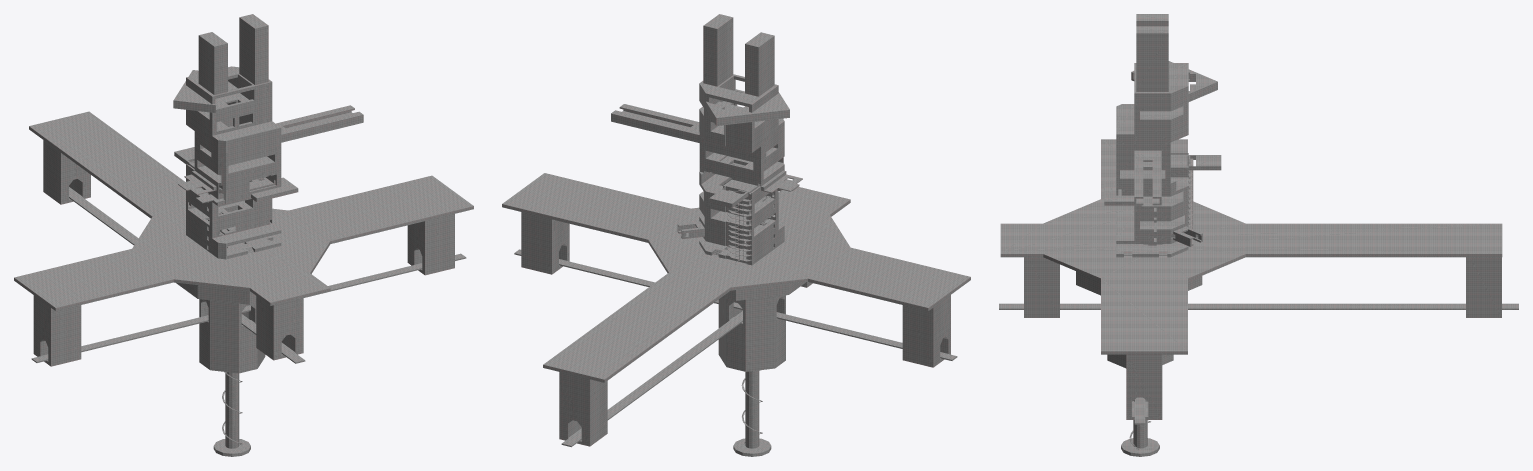
The model's file is floating_building.glb.
The picture shows the model from 3 angles, left to right: view 1: azimuth 30°, elevation 25°; view 2: azimuth 150°, elevation 25°; view 3: azimuth 270°, elevation 25°; orthographic projection. The views are drawn at different scales.
Visible parts, largest first — view 1: Cube.005; view 2: Cube.005; view 3: Cube.005.
Part boxes in pixels (x1,y1,x2,y2): Cube.005: (14, 14, 473, 456); Cube.005: (502, 14, 970, 456); Cube.005: (999, 14, 1518, 456).
Bounding box in the file's own units: 285 × 264 × 288.
Materials: 1 (1 with a texture image).
